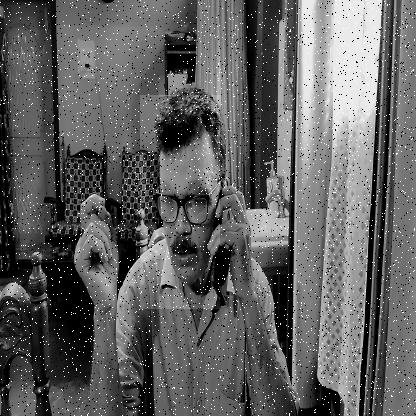Distracted: (140, 96, 220, 310)
